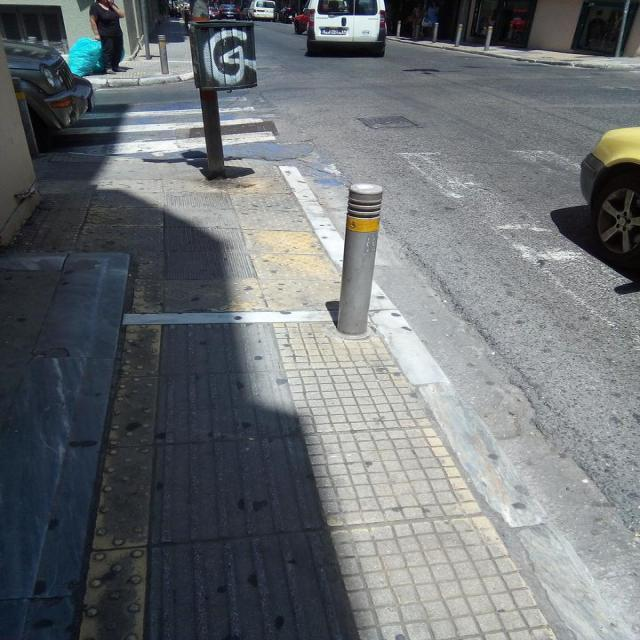nonspitting: (203, 29, 254, 86)
